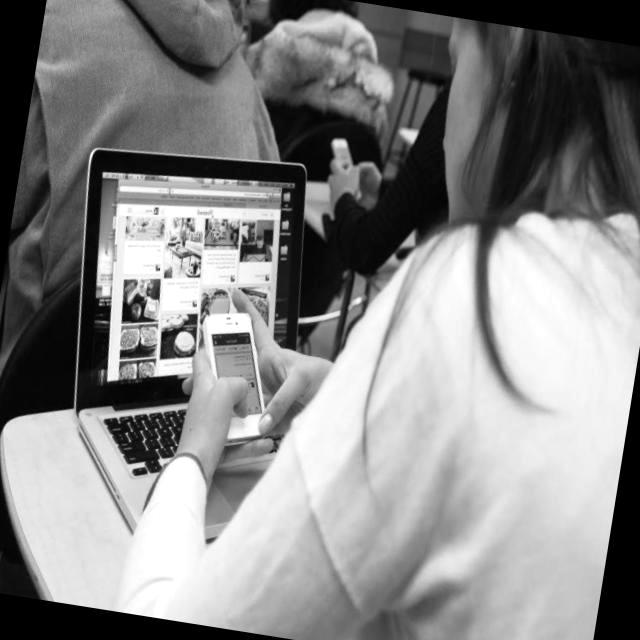phone: (184, 304, 299, 454), (322, 135, 370, 202), (326, 135, 359, 174)
